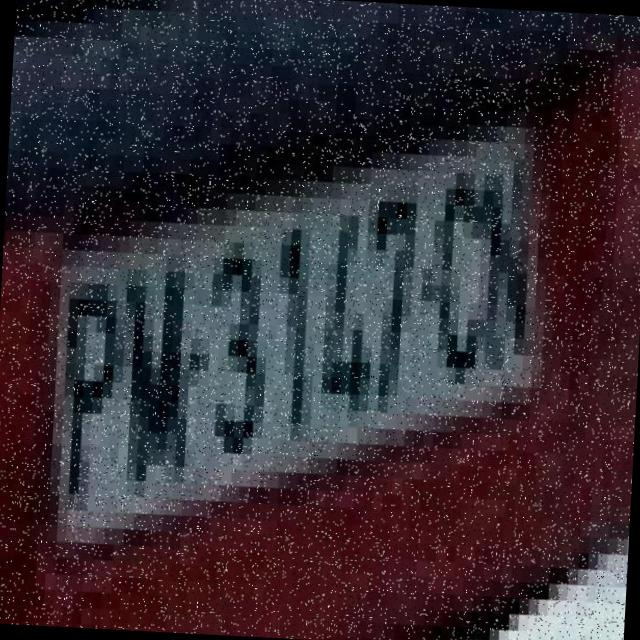LicensePlate: (27, 136, 640, 536)
